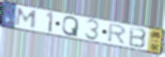1: (46, 12, 55, 34)
3: (83, 18, 101, 42)
B: (128, 26, 148, 50)
M: (14, 7, 39, 30)
Q: (61, 15, 80, 38)
R: (106, 23, 128, 46)
